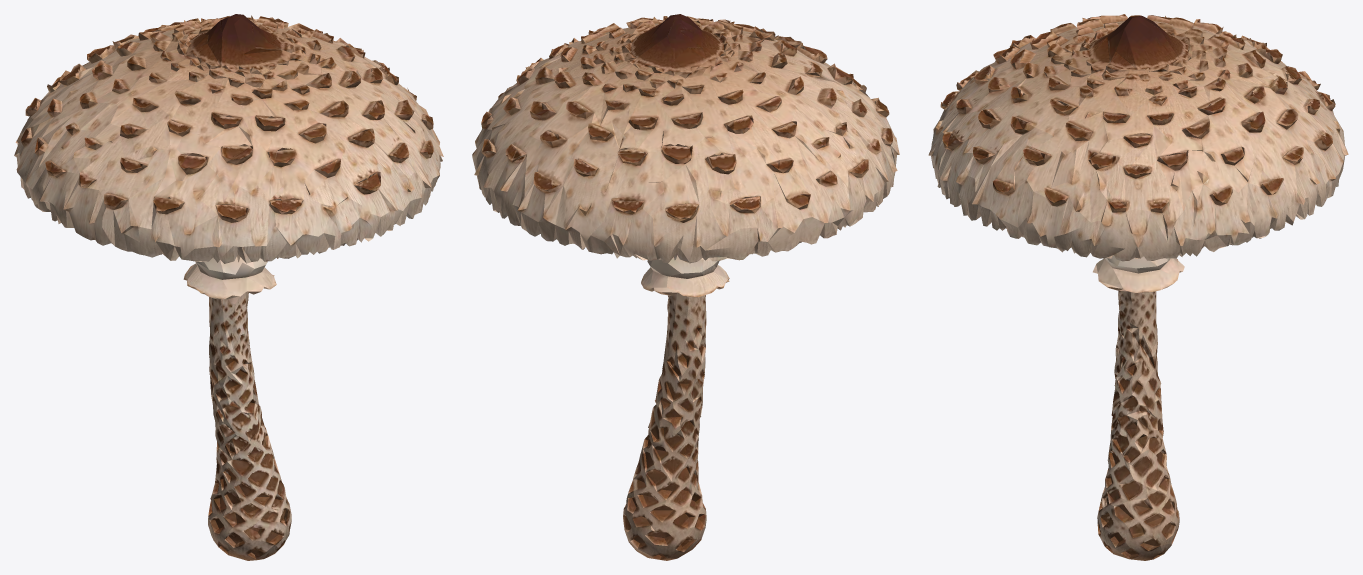
Rendered from semsiye.glb.
The picture shows the model from 3 angles, left to right: view 1: azimuth 30°, elevation 25°; view 2: azimuth 150°, elevation 25°; view 3: azimuth 270°, elevation 25°; orthographic projection. The views are drawn at different scales.
Visible parts, largest first — view 1: output_unwrapped; view 2: output_unwrapped; view 3: output_unwrapped.
Part boxes in pixels (<box>): output_unwrapped: <box>14,14,443,560</box>; output_unwrapped: <box>472,14,899,560</box>; output_unwrapped: <box>928,14,1348,560</box>.
Size of the model in its own units: 1.38 by 1.9 by 1.36.
1 material, 1 textured.
